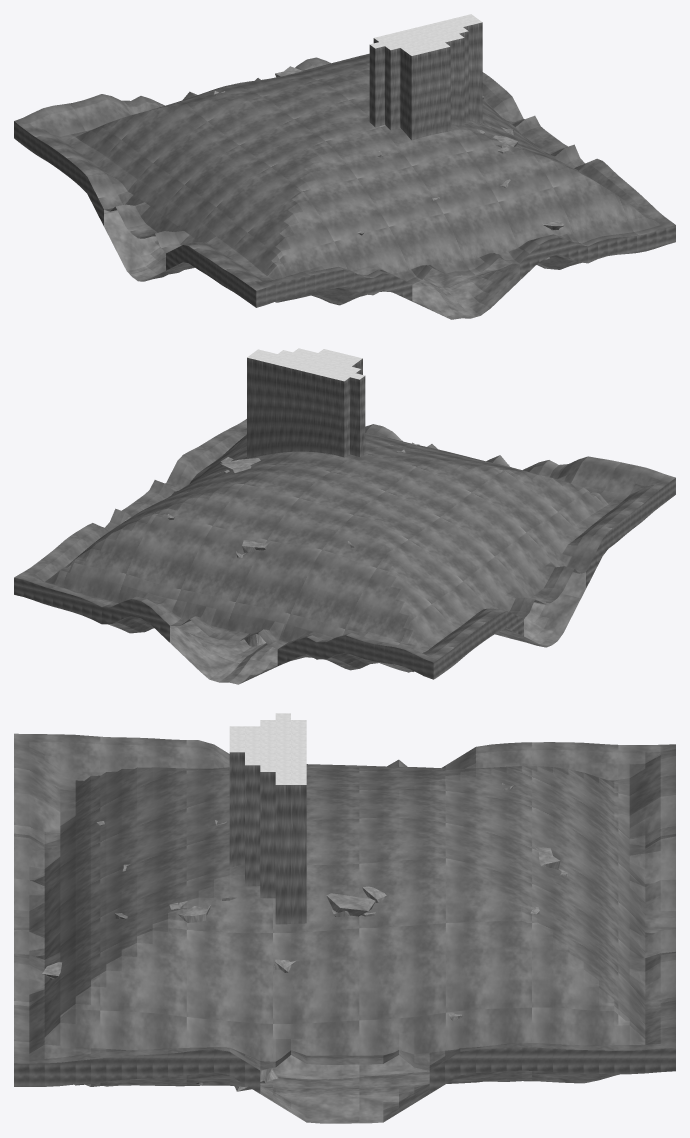
3 views of the same model, one above another, from view 1: azimuth 30°, elevation 25°; view 2: azimuth 150°, elevation 25°; view 3: azimuth 270°, elevation 25° (orthographic). The views are drawn at different scales.
Parts seen in each view (by area): view 1: CavernVault, CavernShaft, CavernWalls, CavernFloor, CavernSkyCap; view 2: CavernVault, CavernShaft, CavernWalls, CavernFloor, CavernSkyCap, CavernStalactites; view 3: CavernVault, CavernWalls, CavernFloor, CavernShaft, CavernSkyCap, CavernStalactites, CavernColumns.
Part boxes in pixels (box(x1,y1,x2,y2)): CavernVault: box(14, 53, 675, 290); CavernShaft: box(369, 22, 482, 140); CavernWalls: box(14, 121, 675, 307); CavernFloor: box(104, 210, 581, 319); CavernSkyCap: box(370, 14, 481, 55); CavernVault: box(14, 419, 675, 662); CavernShaft: box(247, 357, 365, 458); CavernWalls: box(14, 478, 675, 679); CavernFloor: box(108, 572, 585, 684); CavernSkyCap: box(247, 348, 364, 381); CavernStalactites: box(125, 442, 509, 558); CavernVault: box(14, 733, 675, 1070); CavernWalls: box(14, 1047, 675, 1093); CavernFloor: box(74, 1055, 619, 1123); CavernShaft: box(229, 752, 306, 924); CavernSkyCap: box(229, 713, 306, 784); CavernStalactites: box(42, 783, 568, 1021); CavernColumns: box(178, 846, 560, 922).
Size of the model in its own units: 92 by 44.56 by 92.
6 materials, 6 textured.
